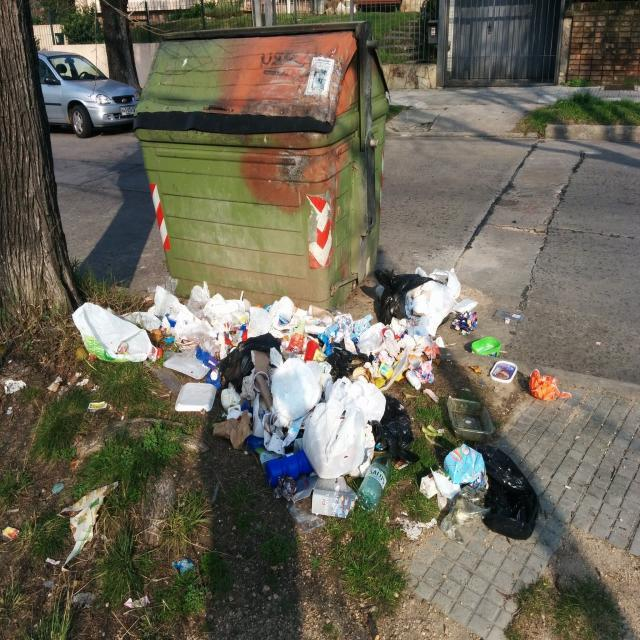garbage: (84, 282, 576, 524), (5, 376, 138, 430), (52, 494, 116, 580)
